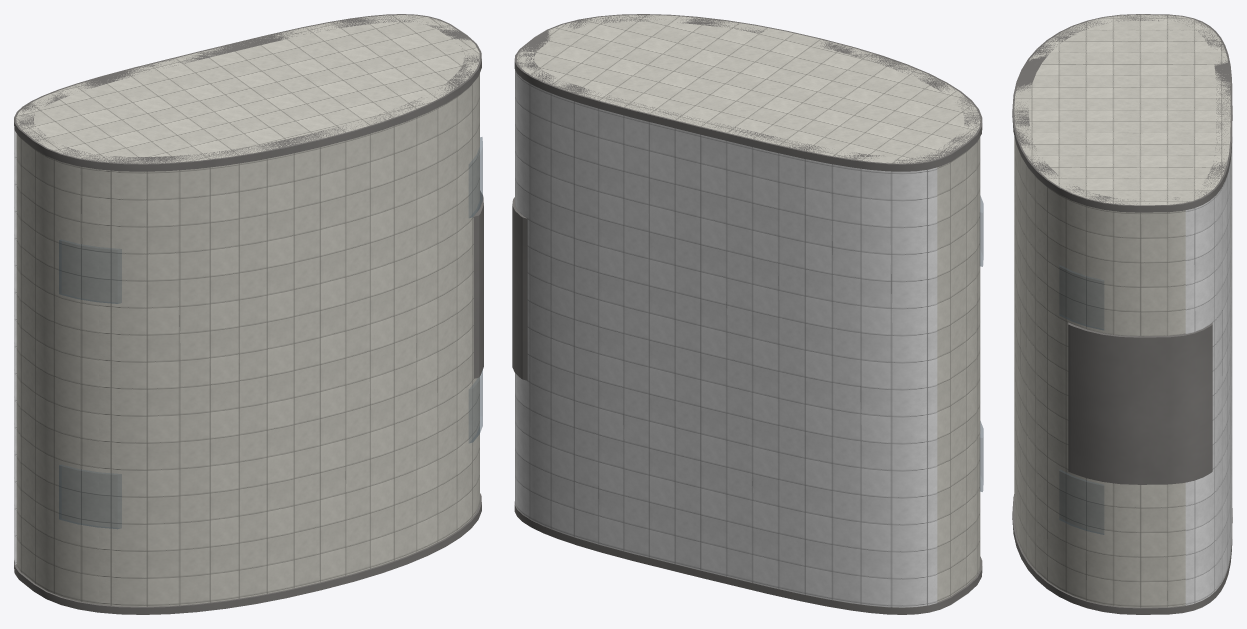
File: aero00_mk2_fuselage_crew_250.glb
The picture shows the model from 3 angles, left to right: view 1: azimuth 30°, elevation 25°; view 2: azimuth 150°, elevation 25°; view 3: azimuth 270°, elevation 25°; orthographic projection. The views are drawn at different scales.
Visible parts, largest first — view 1: fuselage, end_frames, windows, hatch, belly_tiles; view 2: belly_tiles, fuselage, end_frames, hatch; view 3: fuselage, hatch, belly_tiles, end_frames, windows.
Boxes of the visible parts, x1,y1,x2,y2 form: fuselage: [16, 15, 479, 606]; end_frames: [14, 14, 481, 614]; windows: [59, 137, 482, 529]; hatch: [473, 190, 483, 378]; belly_tiles: [14, 130, 16, 564]; belly_tiles: [515, 70, 937, 607]; fuselage: [517, 15, 980, 601]; end_frames: [514, 14, 982, 614]; hatch: [512, 197, 527, 380]; fuselage: [1014, 14, 1230, 607]; hatch: [1068, 322, 1212, 484]; belly_tiles: [1185, 143, 1232, 605]; end_frames: [1012, 14, 1232, 614]; windows: [1059, 265, 1104, 534].
Bounding box in the file's own units: 2.53 × 2.5 × 1.22.
4 materials, 3 textured.
